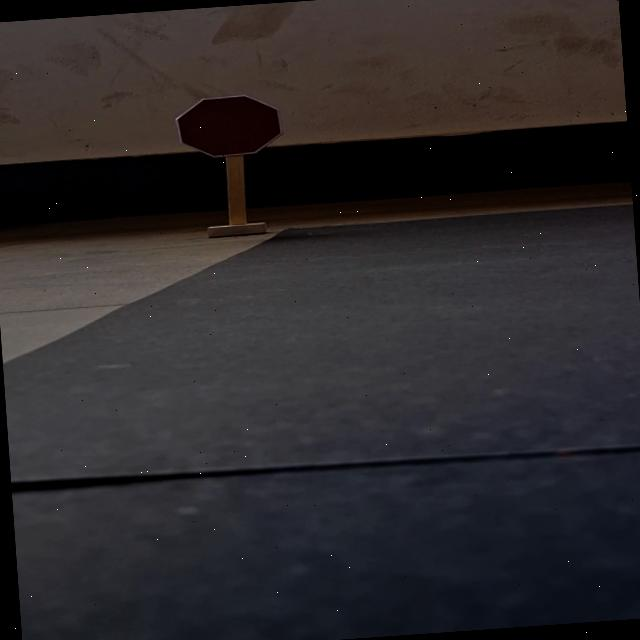Stop: (173, 91, 285, 160)
